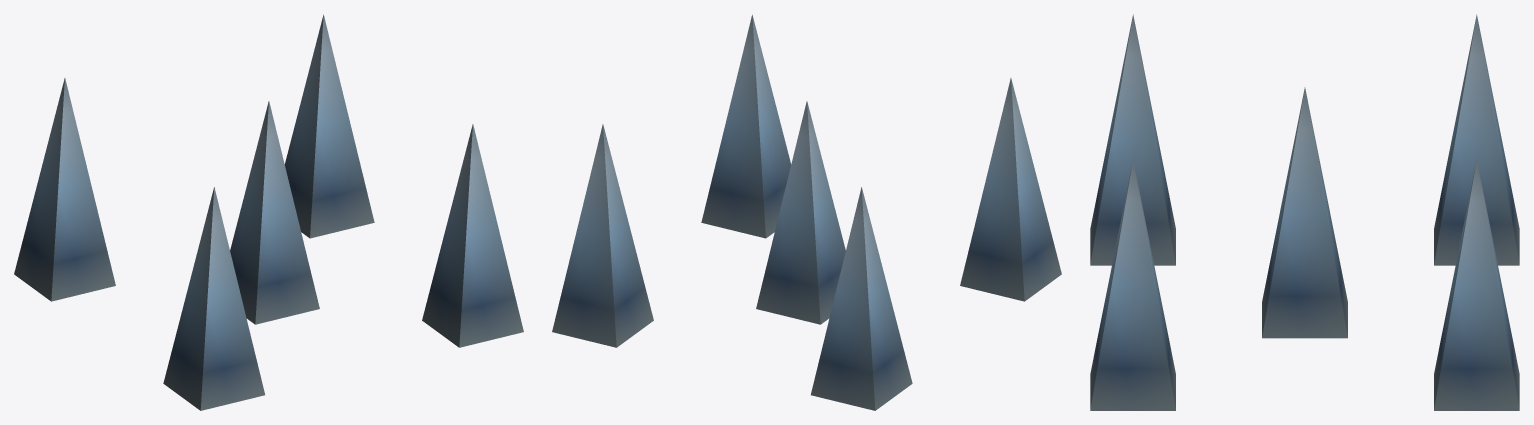
The model's file is spikes.obj.
3 renders of one model, left to right at view 1: azimuth 30°, elevation 25°; view 2: azimuth 150°, elevation 25°; view 3: azimuth 270°, elevation 25°, orthographic. The views are drawn at different scales.
Visible parts, largest first — view 1: Default; view 2: Default; view 3: Default.
Part boxes in pixels (left/top/right/bottom): Default: left=14, top=14, right=523, bottom=410; Default: left=552, top=14, right=1061, bottom=410; Default: left=1090, top=14, right=1519, bottom=410.
Size of the model in its own units: 0.625 by 0.375 by 0.625.
